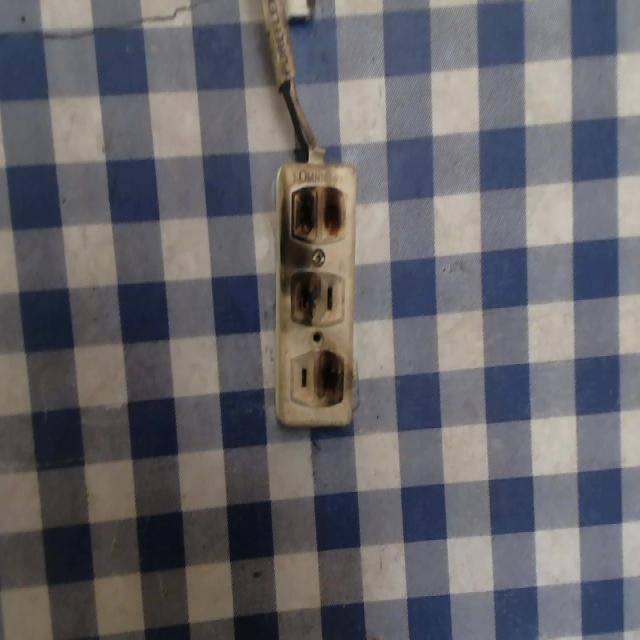-: (283, 171, 350, 248), (280, 266, 319, 342), (311, 340, 349, 411)
